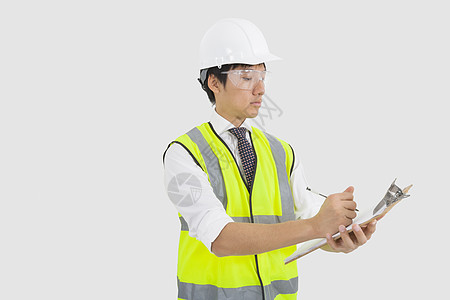person: (161, 17, 379, 300)
reflective_vest: (162, 120, 299, 300)
safety_helmet: (196, 17, 286, 119)
